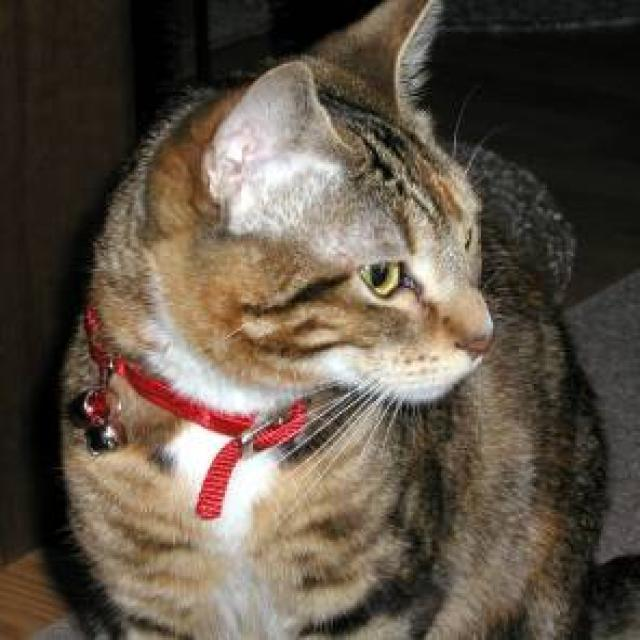Bengal: (145, 0, 491, 403)
